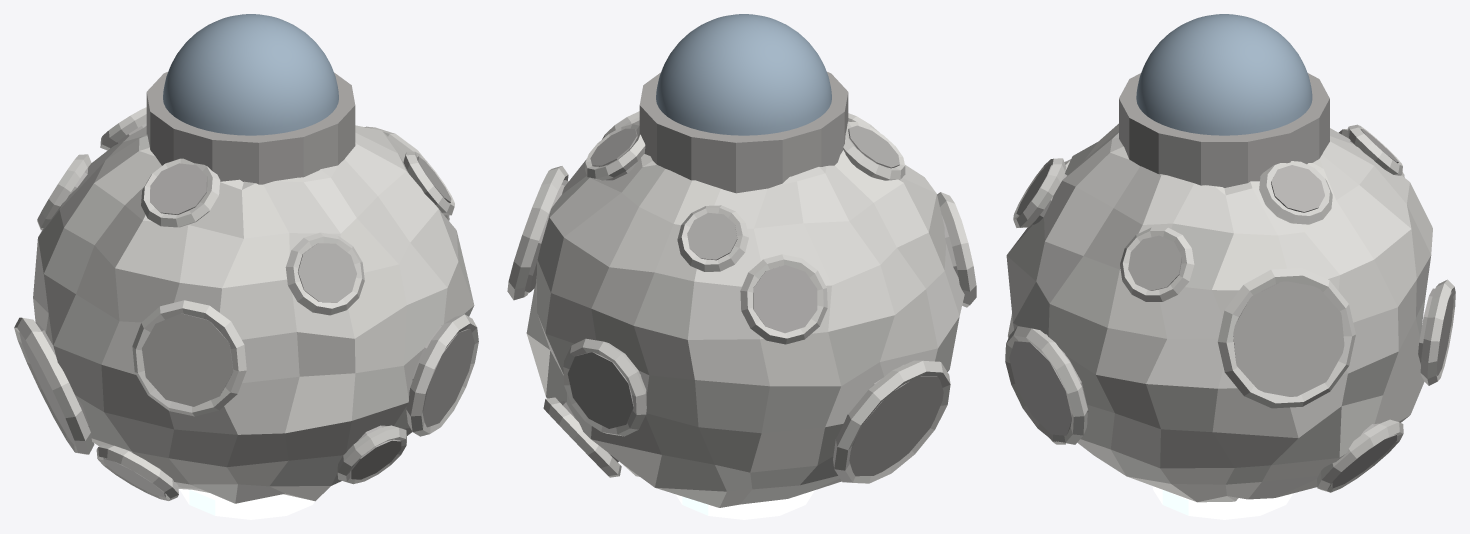
The model's file is meteor.glb.
3 renders of one model, left to right at view 1: azimuth 30°, elevation 25°; view 2: azimuth 150°, elevation 25°; view 3: azimuth 270°, elevation 25°, orthographic.
Visible parts, largest first — view 1: meteor, dome; view 2: meteor, dome; view 3: meteor, dome.
Boxes of the visible parts, x1,y1,x2,y2 form: meteor: (14,72,478,519); dome: (163,14,338,135); meteor: (507,72,976,519); dome: (656,14,831,135); meteor: (1005,73,1455,519); dome: (1136,14,1312,135).
Bounding box in the file's own units: 3.32 × 3.62 × 3.16.
